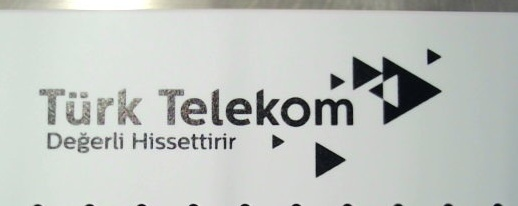AQ_TURKTelekom: (31, 48, 442, 175)
